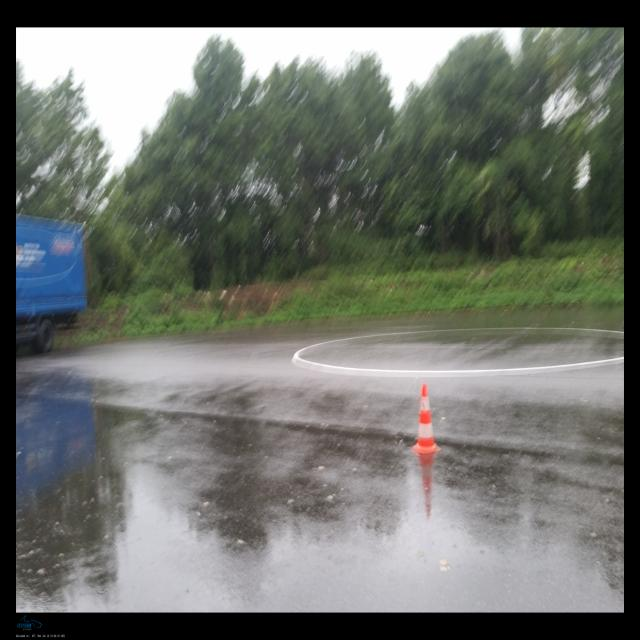large_orange_cone: (413, 383, 441, 454)
